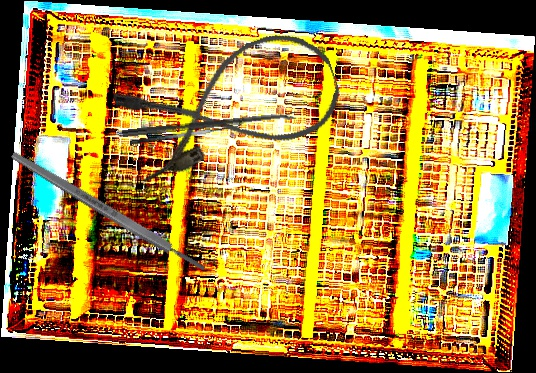Cannula: (109, 20, 350, 188)
Scalpel Handle: (9, 148, 208, 275)
Spatula Surgical: (128, 117, 242, 146)
Surgical Spoon: (122, 111, 296, 139)
